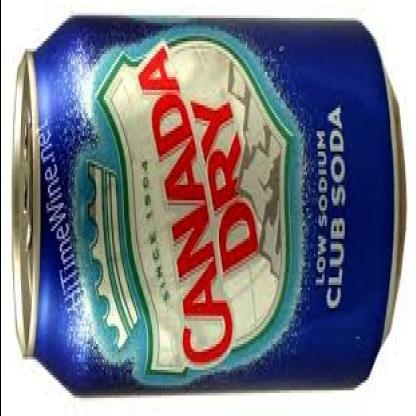trash: (13, 16, 403, 392)
